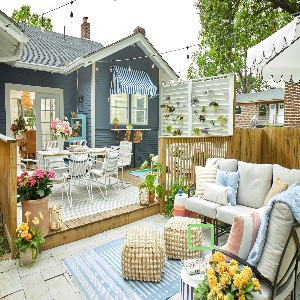square: (185, 222, 216, 251)
